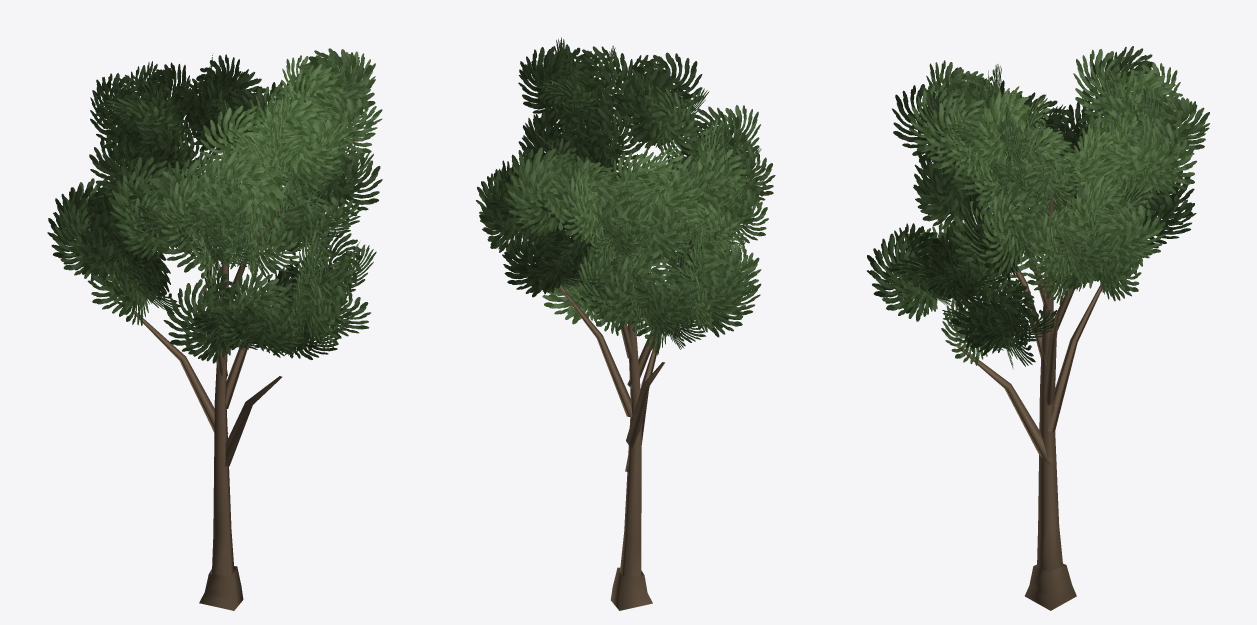
3 views of the same model, side by side, from view 1: azimuth 30°, elevation 25°; view 2: azimuth 150°, elevation 25°; view 3: azimuth 270°, elevation 25° (orthographic). The views are drawn at different scales.
Visible parts, largest first — view 1: Preserved terminal foliage sprays, Connected simplified trunk and branches; view 2: Preserved terminal foliage sprays, Connected simplified trunk and branches; view 3: Preserved terminal foliage sprays, Connected simplified trunk and branches.
Part boxes in pixels (x1,y1,x2,y2): Preserved terminal foliage sprays: [47, 48, 382, 363]; Connected simplified trunk and branches: [134, 206, 285, 610]; Preserved terminal foliage sprays: [476, 37, 775, 355]; Connected simplified trunk and branches: [559, 248, 678, 610]; Preserved terminal foliage sprays: [867, 46, 1210, 368]; Connected simplified trunk and branches: [957, 187, 1102, 610].
Size of the model in its own units: 6.23 by 10.06 by 6.39.
